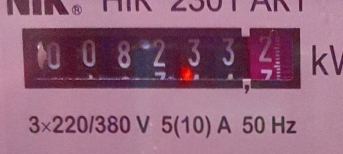0: (42, 38, 63, 71), (78, 37, 97, 68)
2: (148, 36, 168, 69), (256, 32, 273, 64)
3: (184, 36, 202, 67), (220, 35, 236, 66)
8: (114, 37, 132, 69)
screen: (11, 15, 312, 98)
